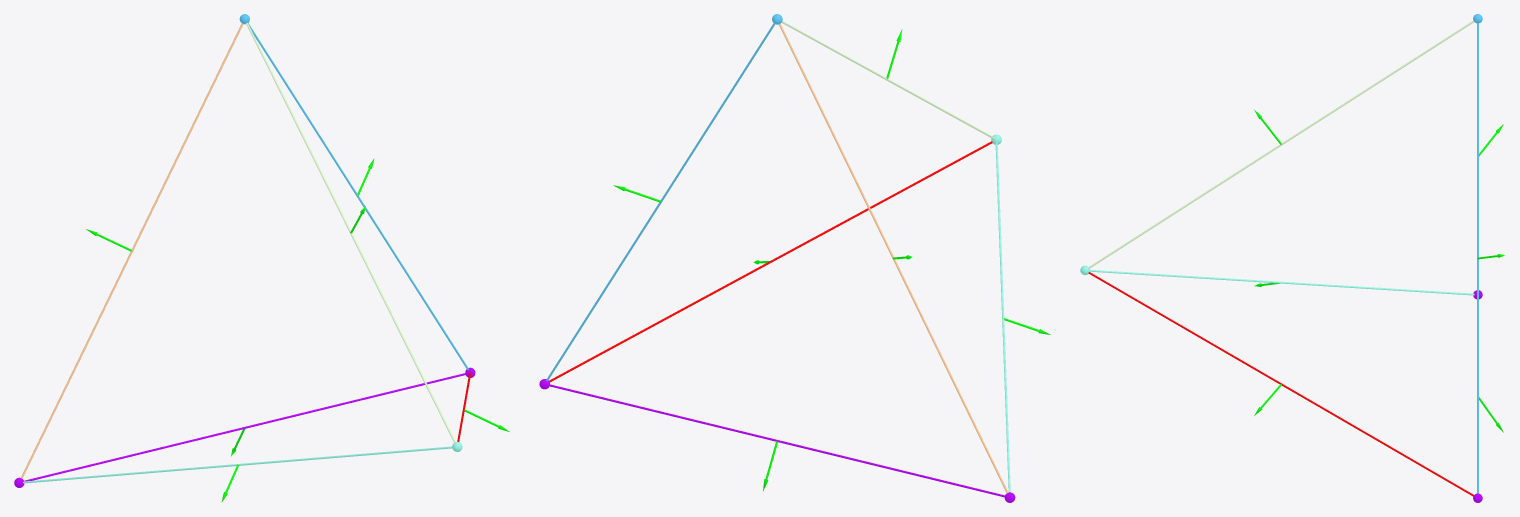
Rendered from single_tetrahedron.gltf.
3 views of the same model, side by side, from view 1: azimuth 30°, elevation 25°; view 2: azimuth 150°, elevation 25°; view 3: azimuth 270°, elevation 25° (orthographic). The views are drawn at different scales.
Bounding box in the file's own units: 1.02 × 0.9599 × 0.8837.
